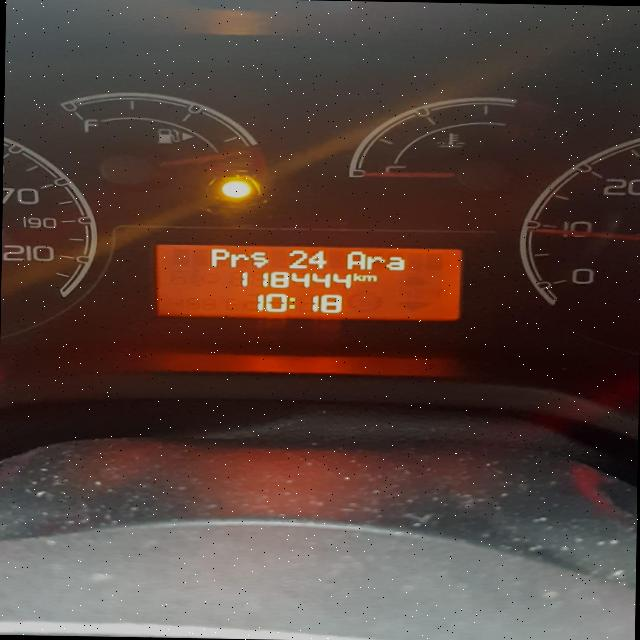odometer: (148, 241, 468, 325)
